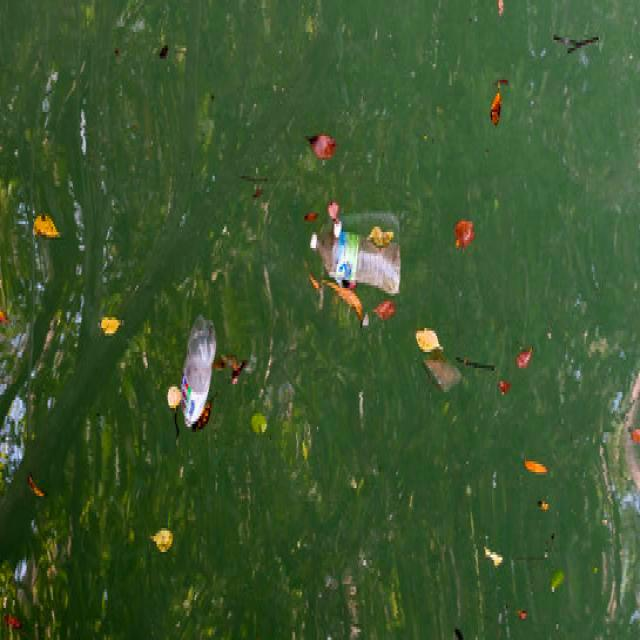Plastic: (307, 231, 404, 298), (174, 315, 225, 434)
